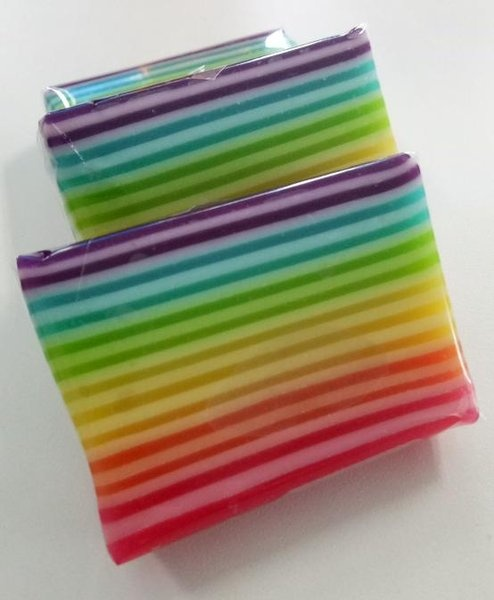kue_lapis_pelangi: (17, 154, 480, 569), (40, 26, 400, 258)
